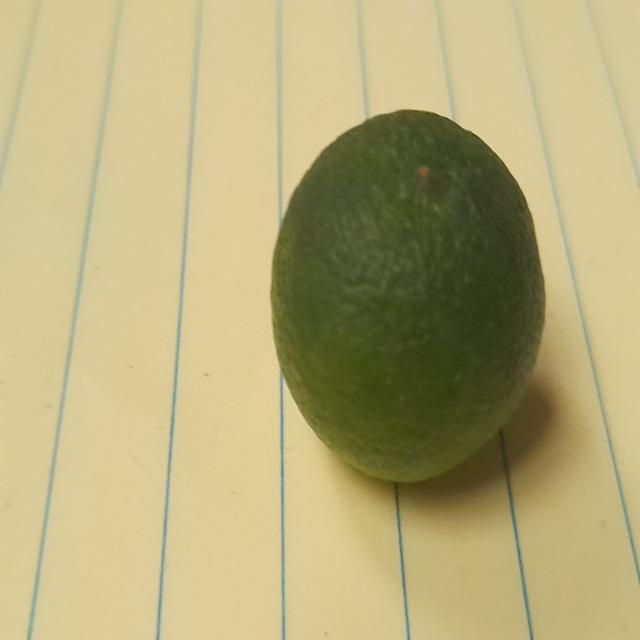heathy: (254, 99, 566, 502)
